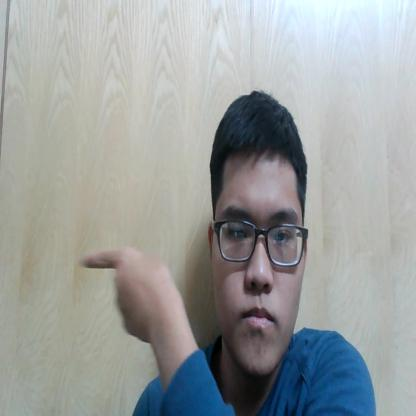right: (75, 240, 185, 357)
